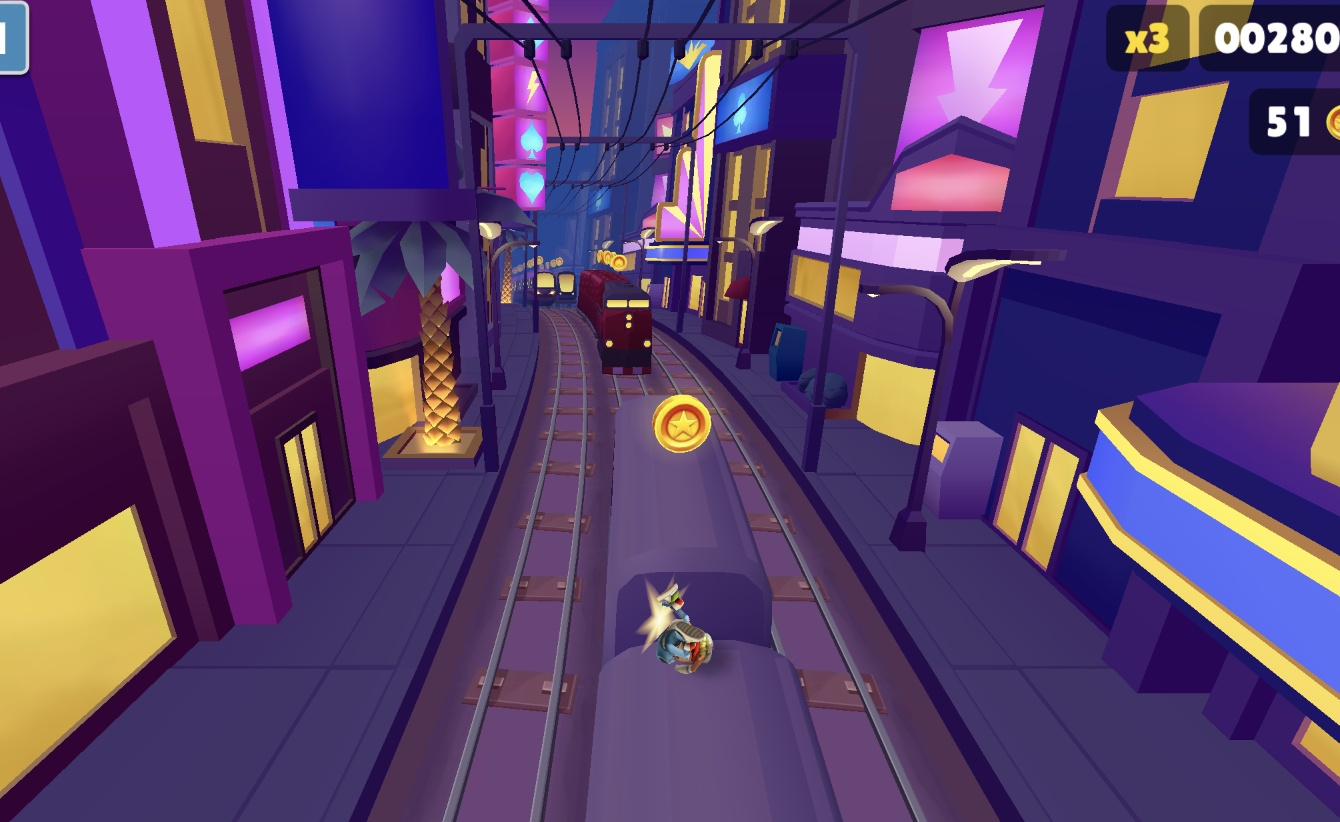train: (556, 411, 838, 822), (576, 269, 657, 378), (522, 265, 553, 303), (550, 262, 574, 304)
